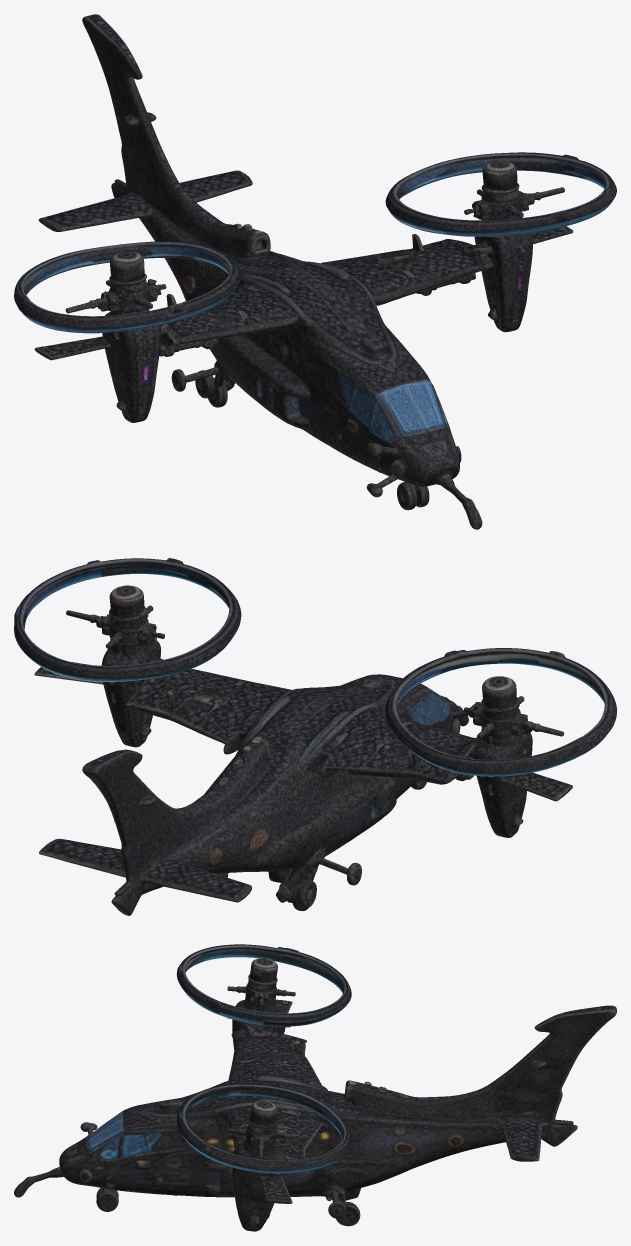
Rendered from valkyrie-vtol.glb.
The picture shows the model from 3 angles, top to bottom: view 1: azimuth 30°, elevation 25°; view 2: azimuth 150°, elevation 25°; view 3: azimuth 270°, elevation 25°; orthographic projection. The views are drawn at different scales.
Visible parts, largest first — view 1: valkyrie-vtol; view 2: valkyrie-vtol; view 3: valkyrie-vtol.
Boxes of the visible parts, x1,y1,x2,y2 form: valkyrie-vtol: (14,14,616,529); valkyrie-vtol: (14,558,616,915); valkyrie-vtol: (14,944,616,1231).
Size of the model in its own units: 15.11 by 6.46 by 17.5.
1 material, 1 textured.
